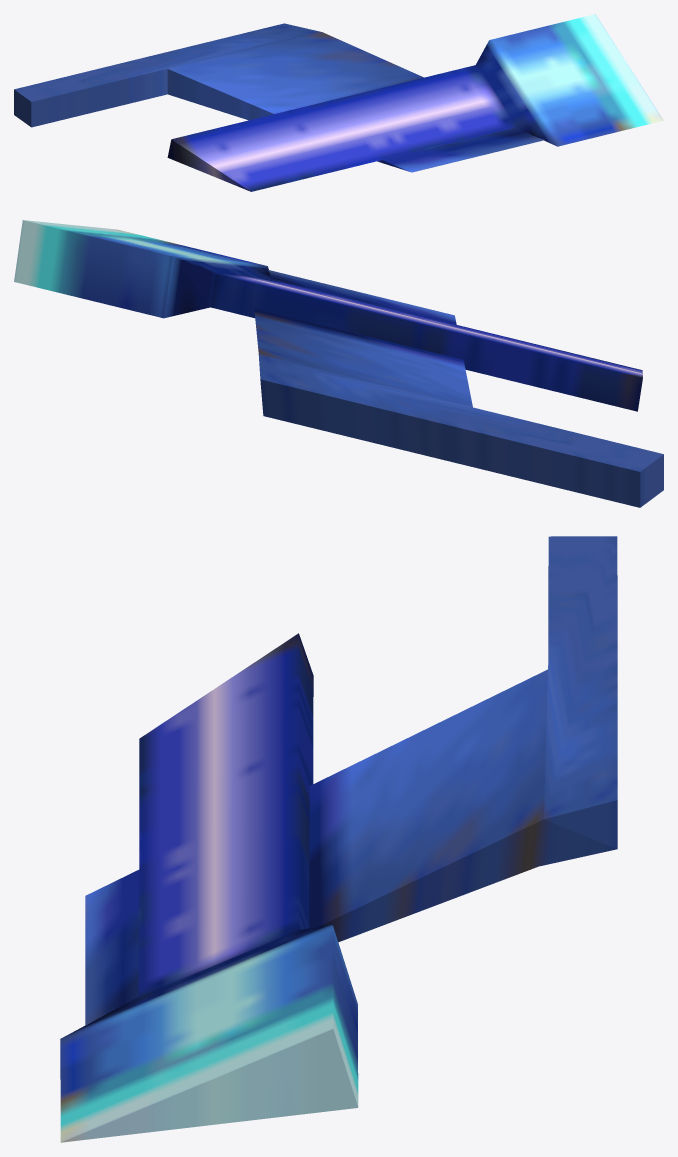
3 renders of one model, top to bottom at view 1: azimuth 30°, elevation 25°; view 2: azimuth 150°, elevation 25°; view 3: azimuth 270°, elevation 25°, orthographic. The views are drawn at different scales.
Visible parts, largest first — view 1: aw218; view 2: aw218; view 3: aw218.
Part boxes in pixels (x1,y1,x2,y2): aw218: (14, 14, 663, 191); aw218: (14, 220, 663, 507); aw218: (60, 536, 617, 1142).
Bounding box in the file's own units: 19.07 × 2.03 × 9.01.
1 material, 1 textured.
